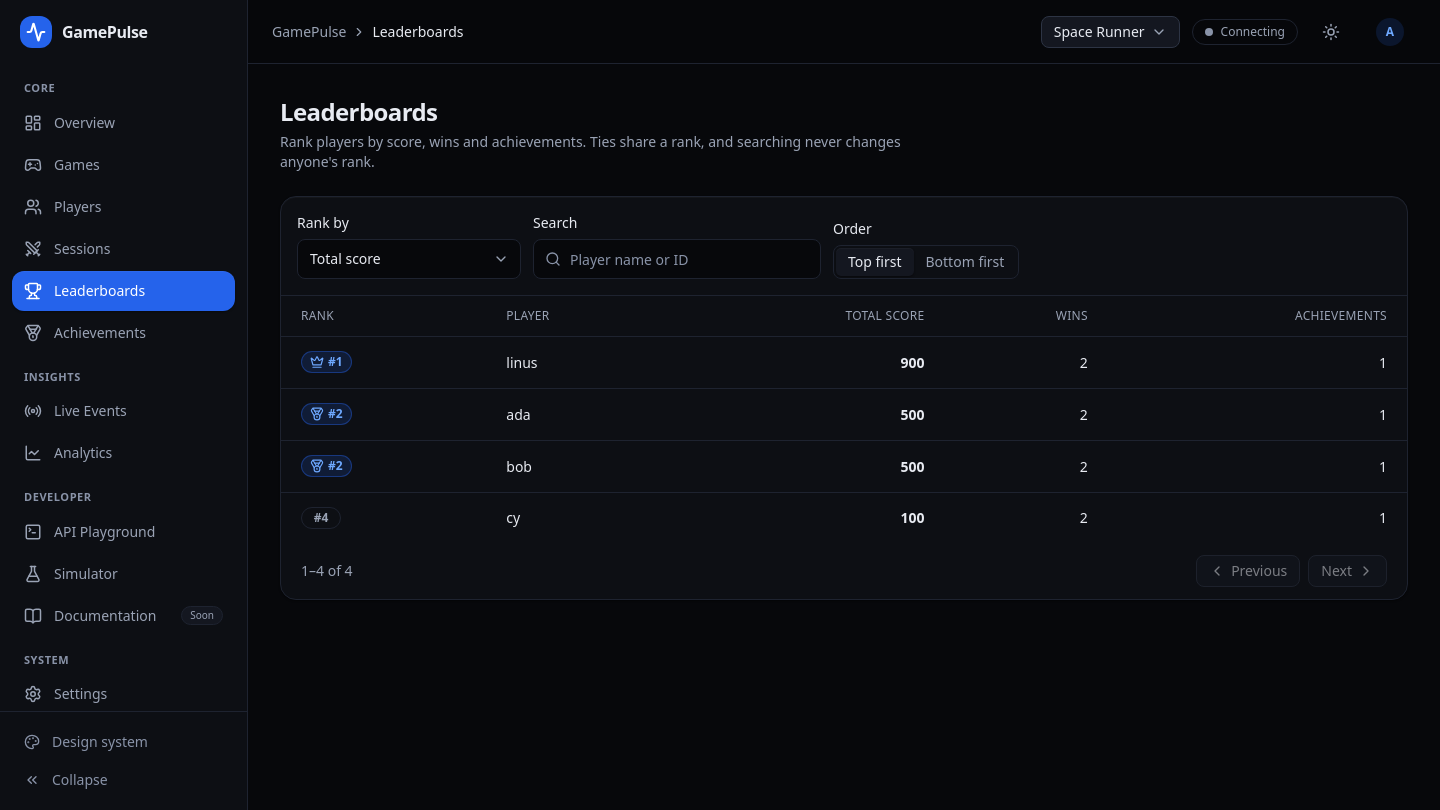
Leaderboards page › switches the ranking metric
Expected: the link "linus" is shown, [506,352,538,372]
Select "Wins" in the dropdown labelled "Rank by" at (409, 259), box [297,239,521,279]
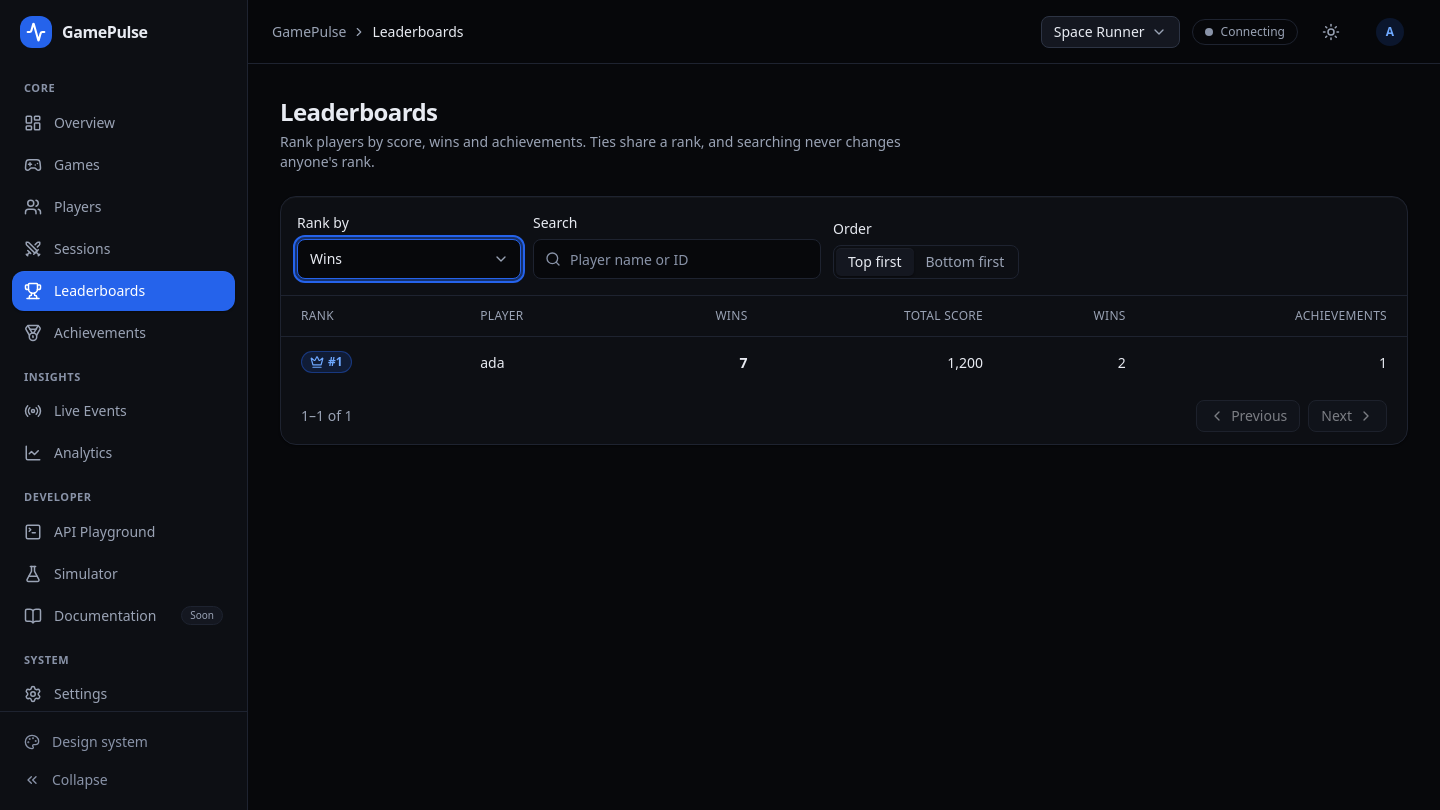
Expected: the text "7" is shown, [740,352,748,372]
